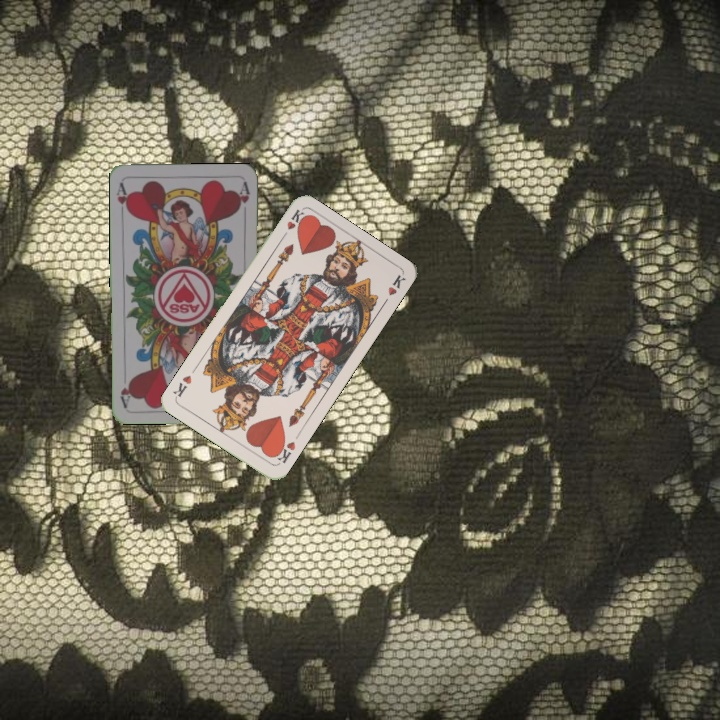HA: (113, 179, 132, 219)
HK: (277, 205, 307, 243), (270, 436, 298, 467)
